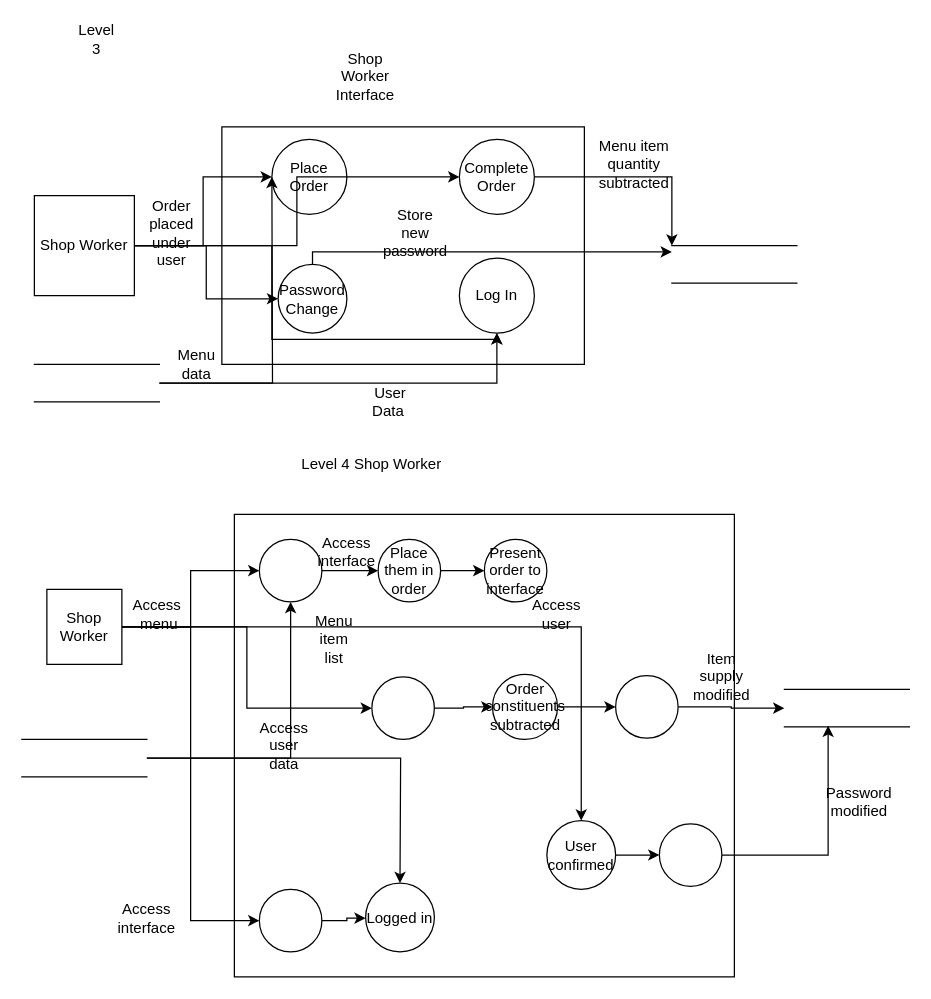
Image size: 931x999. Some labels were removed from this diagram. Each missing label, with the centre of its shape:
"Interface accessed" goes at point 290,920.
"Order marked complete" goes at point 402,707.
"Order removed from interface" goes at point 646,706.
"Password changed" goes at point 690,854.
"Select menu items" goes at point 290,570.
